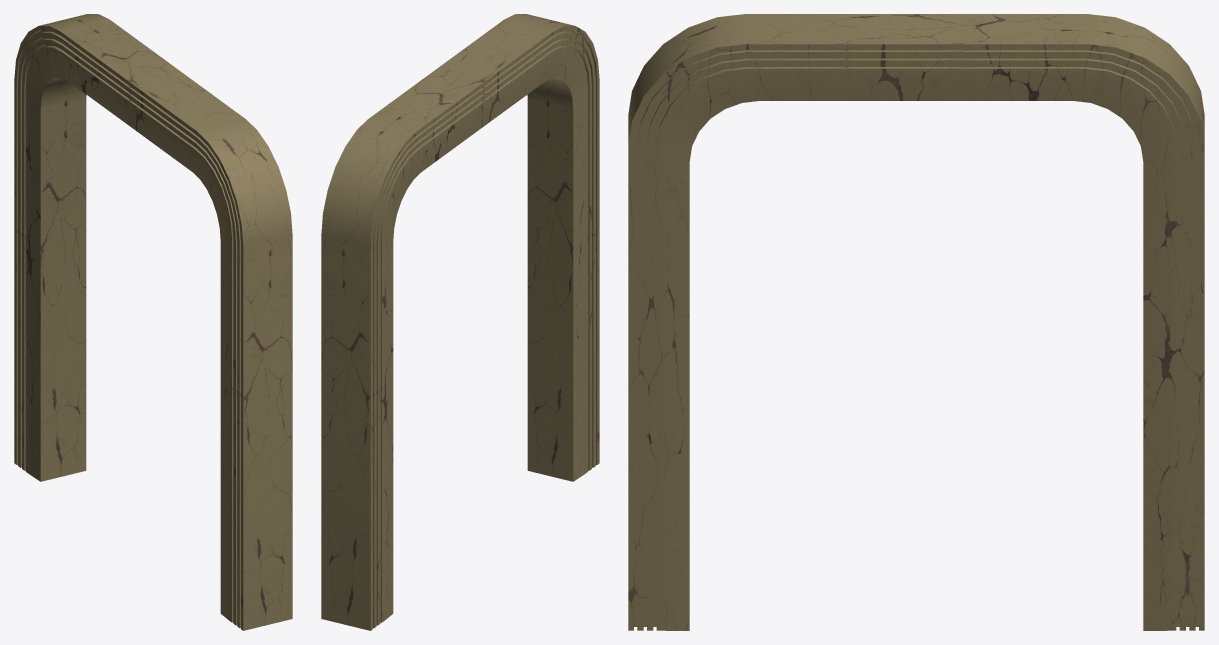
The model's file is DoorwayArch.fbx.
3 renders of one model, left to right at view 1: azimuth 30°, elevation 25°; view 2: azimuth 150°, elevation 25°; view 3: azimuth 270°, elevation 25°, orthographic. The views are drawn at different scales.
Visible parts, largest first — view 1: Wall_3m_DoorwayArch_A.003; view 2: Wall_3m_DoorwayArch_A.003; view 3: Wall_3m_DoorwayArch_A.003.
Boxes of the visible parts, box(x1,y1,x2,y2) form: Wall_3m_DoorwayArch_A.003: box(14, 14, 292, 630); Wall_3m_DoorwayArch_A.003: box(321, 14, 599, 630); Wall_3m_DoorwayArch_A.003: box(628, 14, 1204, 630).
Size of the model in its own units: 0.3068 by 2.78 by 2.47.
